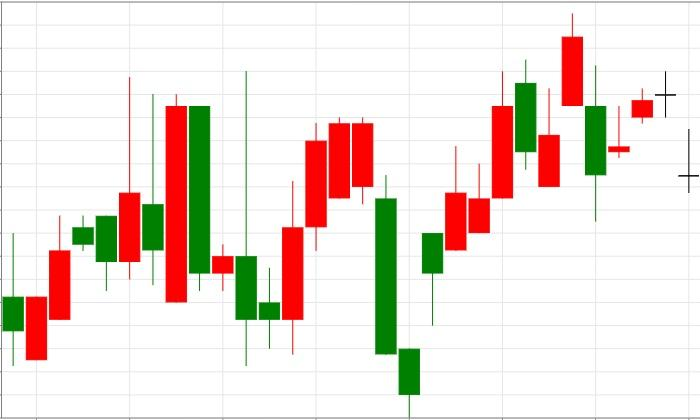bullish_engulfing_rise: (164, 70, 304, 366)
